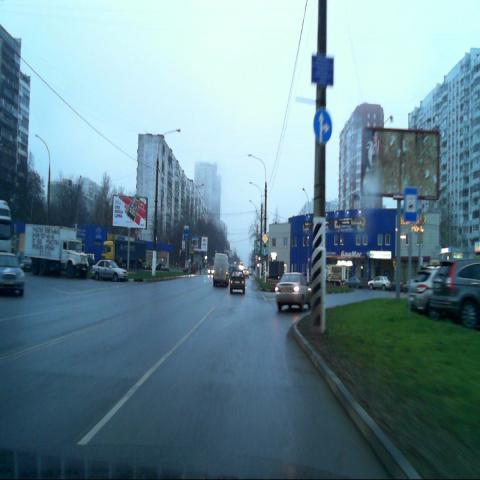4_1_4: (312, 108, 332, 142)
5_18: (404, 187, 417, 221)
